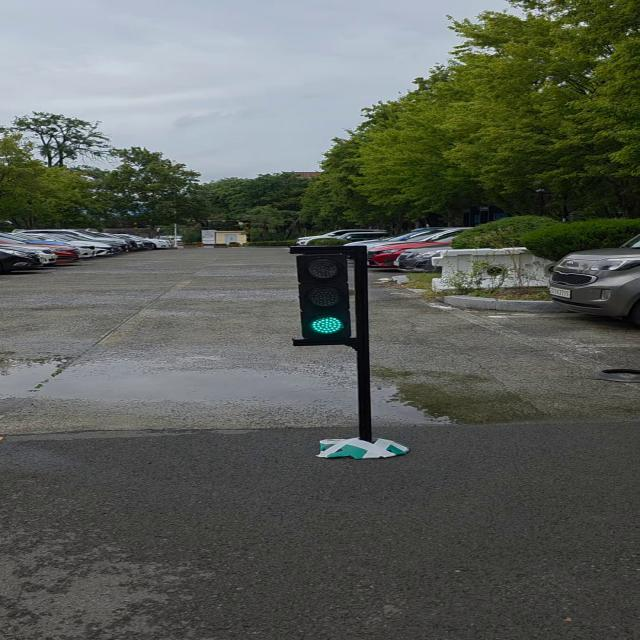green: (292, 249, 366, 344)
